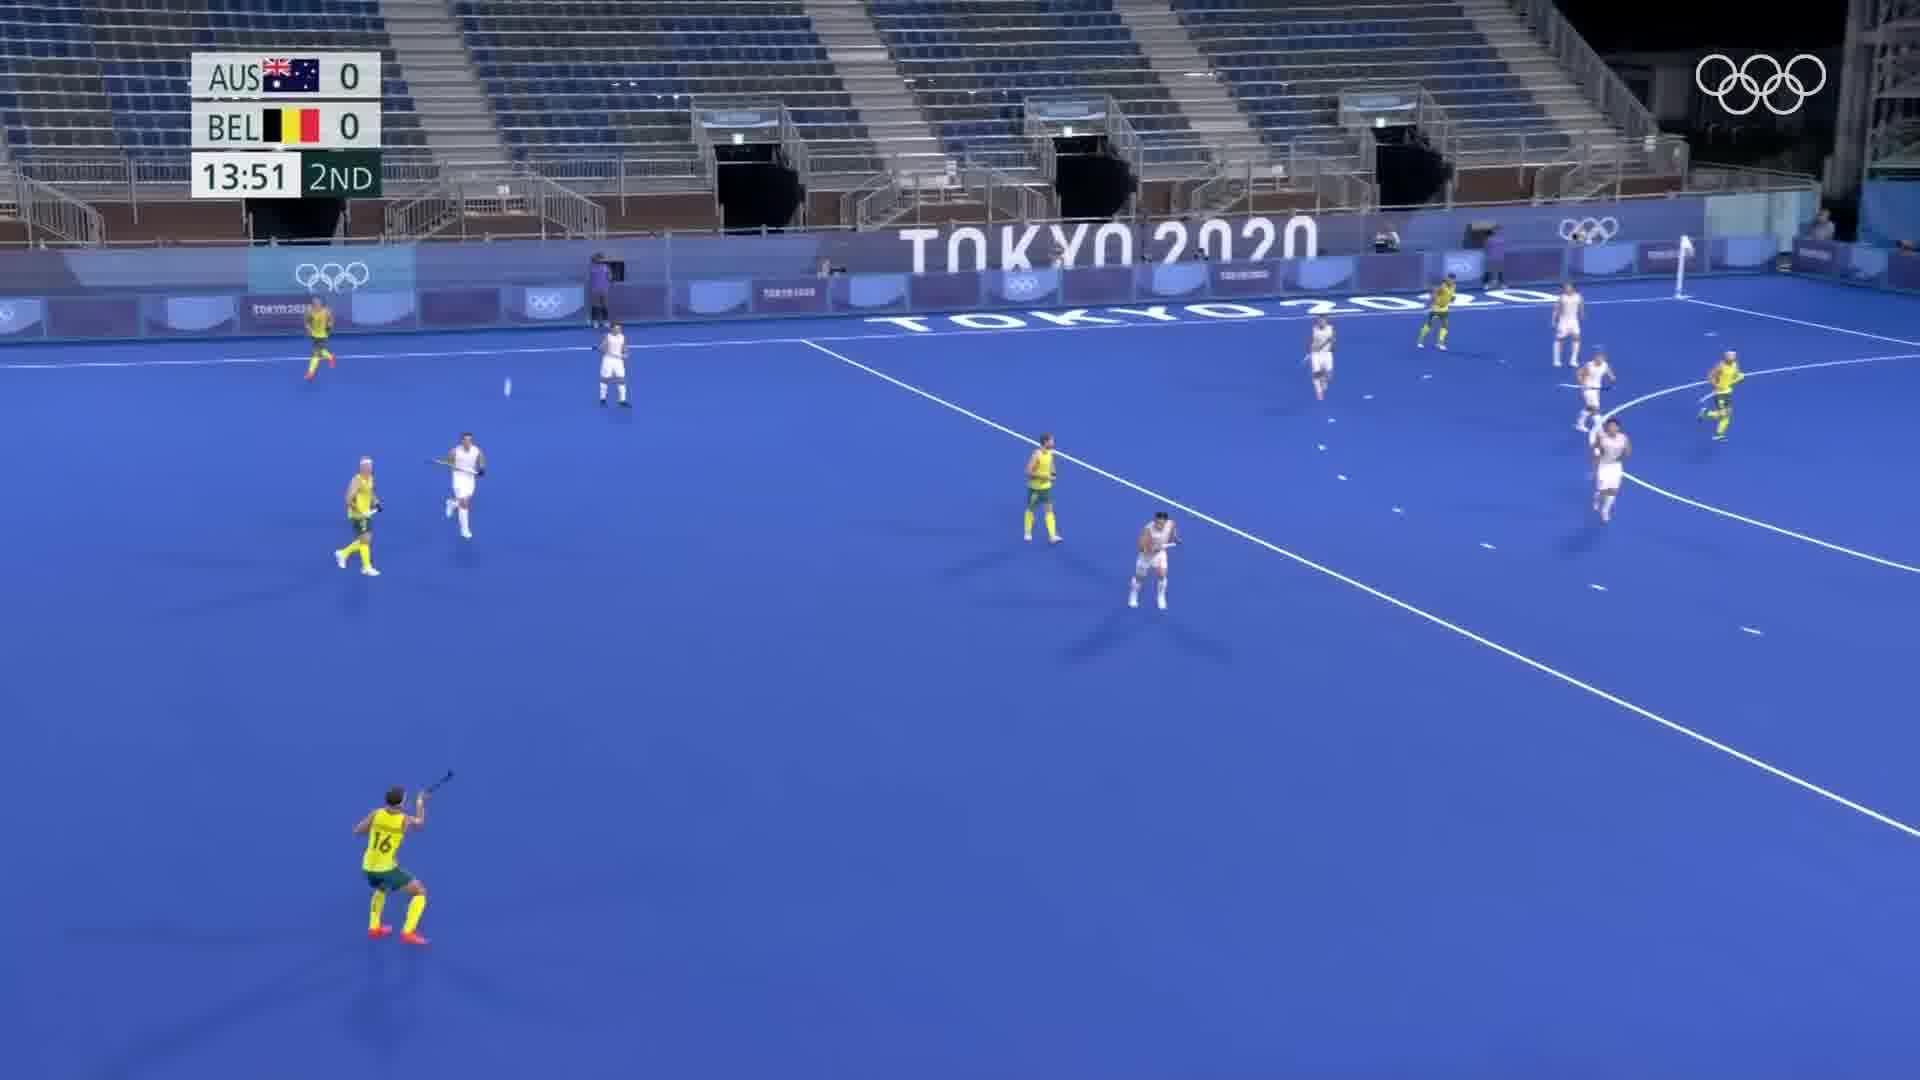ball: (495, 370, 524, 400)
